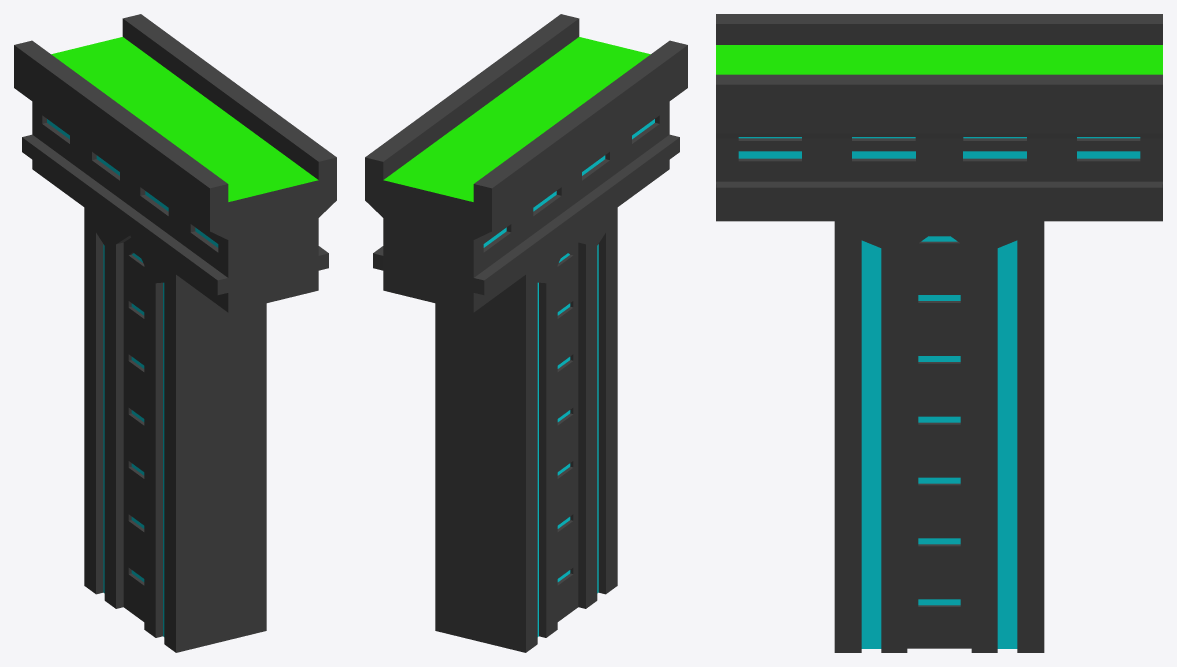
File: Bridge Main.fbx
3 views of the same model, side by side, from view 1: azimuth 30°, elevation 25°; view 2: azimuth 150°, elevation 25°; view 3: azimuth 270°, elevation 25° (orthographic). The views are drawn at different scales.
Visible parts, largest first — view 1: Bridge; view 2: Bridge; view 3: Bridge.
Part boxes in pixels (x1,y1,x2,y2): Bridge: (14, 14, 336, 652); Bridge: (365, 14, 687, 652); Bridge: (716, 14, 1162, 652).
Bounding box in the file's own units: 150 × 571 × 400.
